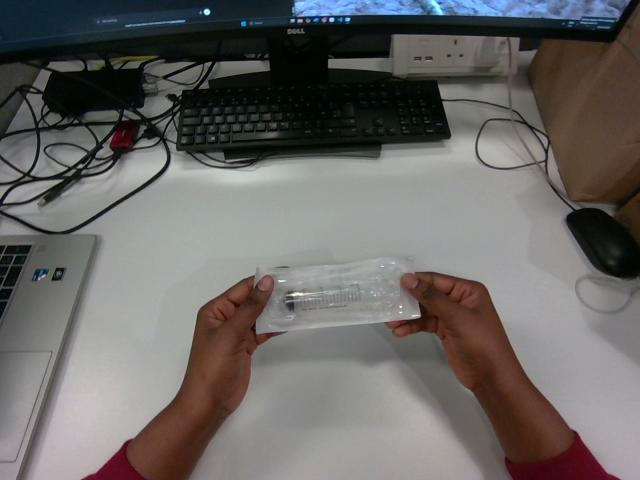syringe: (255, 257, 419, 332)
